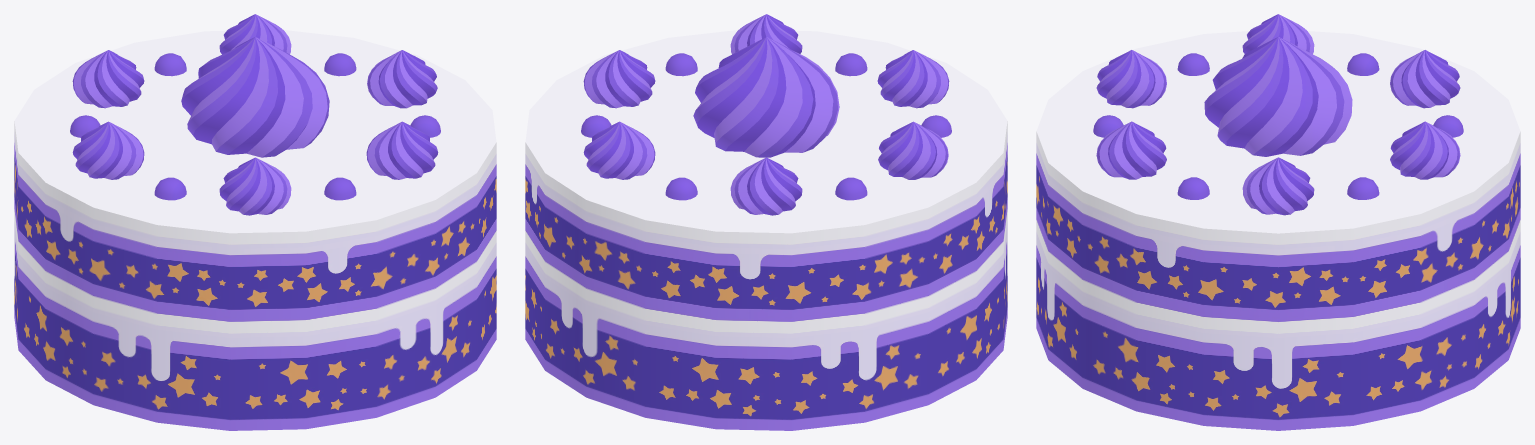
Rendered from cake_purple-transformed.glb.
3 renders of one model, left to right at view 1: azimuth 30°, elevation 25°; view 2: azimuth 150°, elevation 25°; view 3: azimuth 270°, elevation 25°, orthographic.
Visible parts, largest first — view 1: Whole_Mooncake_0; view 2: Whole_Mooncake_0; view 3: Whole_Mooncake_0.
Part boxes in pixels (x1,y1,x2,y2): Whole_Mooncake_0: (14, 14, 496, 430); Whole_Mooncake_0: (525, 14, 1007, 430); Whole_Mooncake_0: (1036, 14, 1520, 430).
Size of the model in its own units: 0.4 by 0.2662 by 0.4.
1 material, 1 textured.
